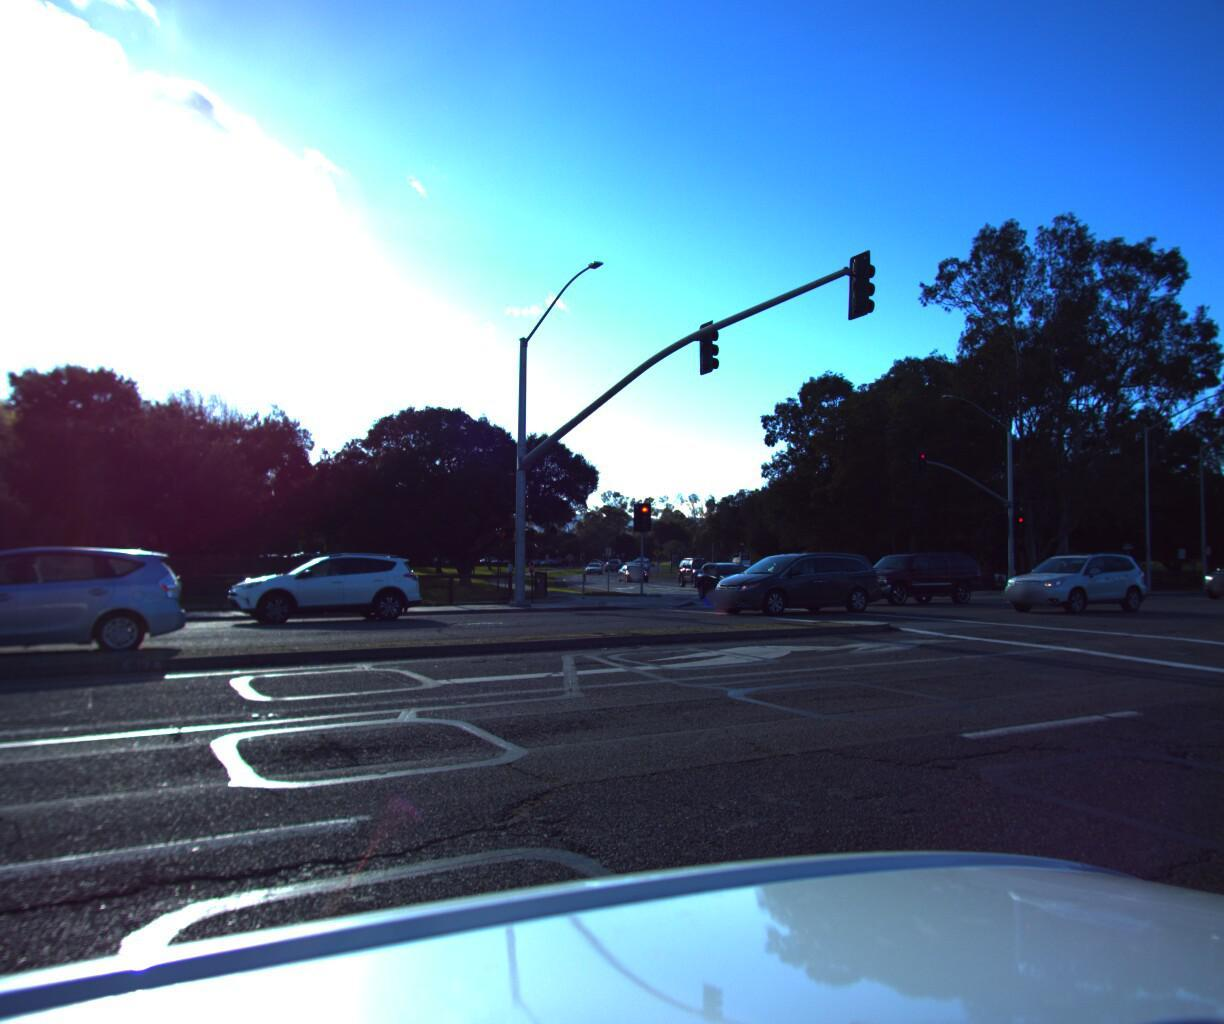car: (215, 547, 426, 623), (695, 544, 884, 613), (983, 543, 1147, 610), (834, 543, 983, 601), (687, 556, 764, 596), (672, 549, 725, 583), (1188, 546, 1224, 593)
